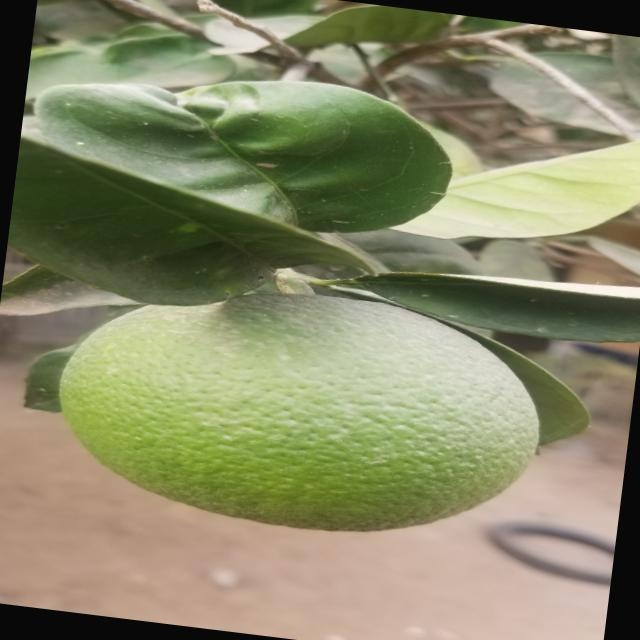agrume: (49, 262, 550, 550)
